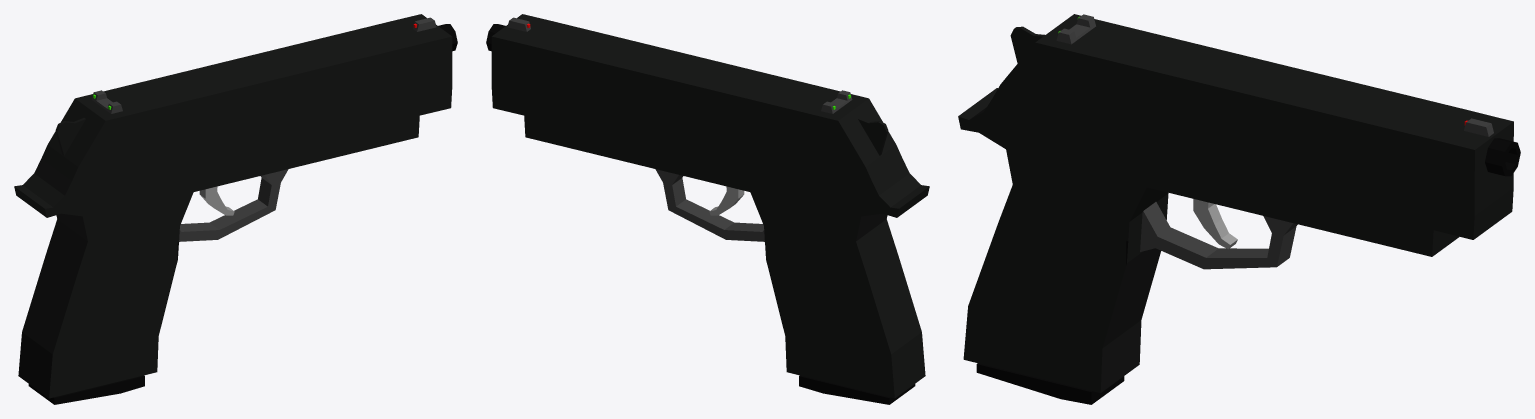
Rendered from Pistol.fbx.
3 renders of one model, left to right at view 1: azimuth 30°, elevation 25°; view 2: azimuth 150°, elevation 25°; view 3: azimuth 330°, elevation 25°, orthographic. The views are drawn at different scales.
Visible parts, largest first — view 1: Cube; view 2: Cube; view 3: Cube.
Boxes of the visible parts, x1=… form: Cube: x1=14, y1=14, x2=457, y2=404; Cube: x1=486, y1=14, x2=929, y2=404; Cube: x1=958, y1=14, x2=1520, y2=404.
Size of the model in its own units: 955 by 620 by 121.
Materials: 1 (1 with a texture image).
